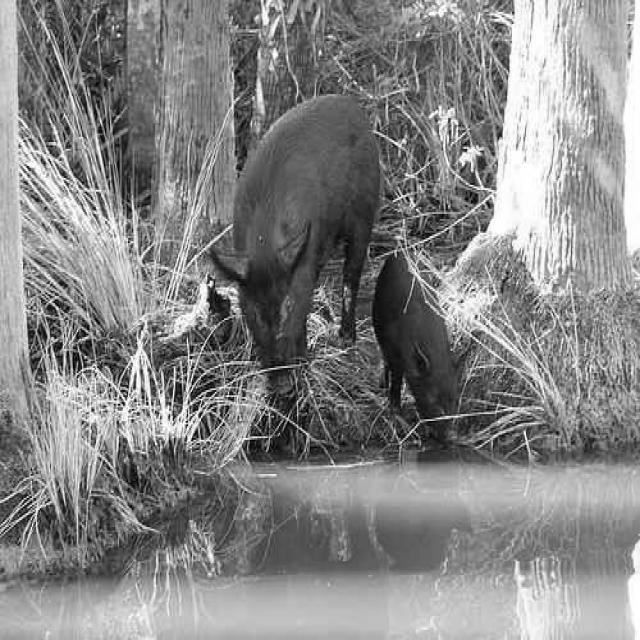boar: (209, 94, 378, 447), (371, 252, 465, 443)
